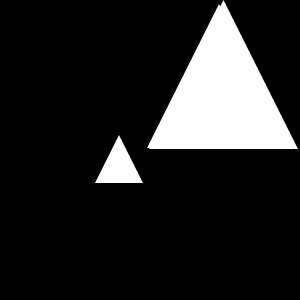triangle: (149, 0, 298, 149), (147, 4, 291, 148), (95, 135, 143, 183)
